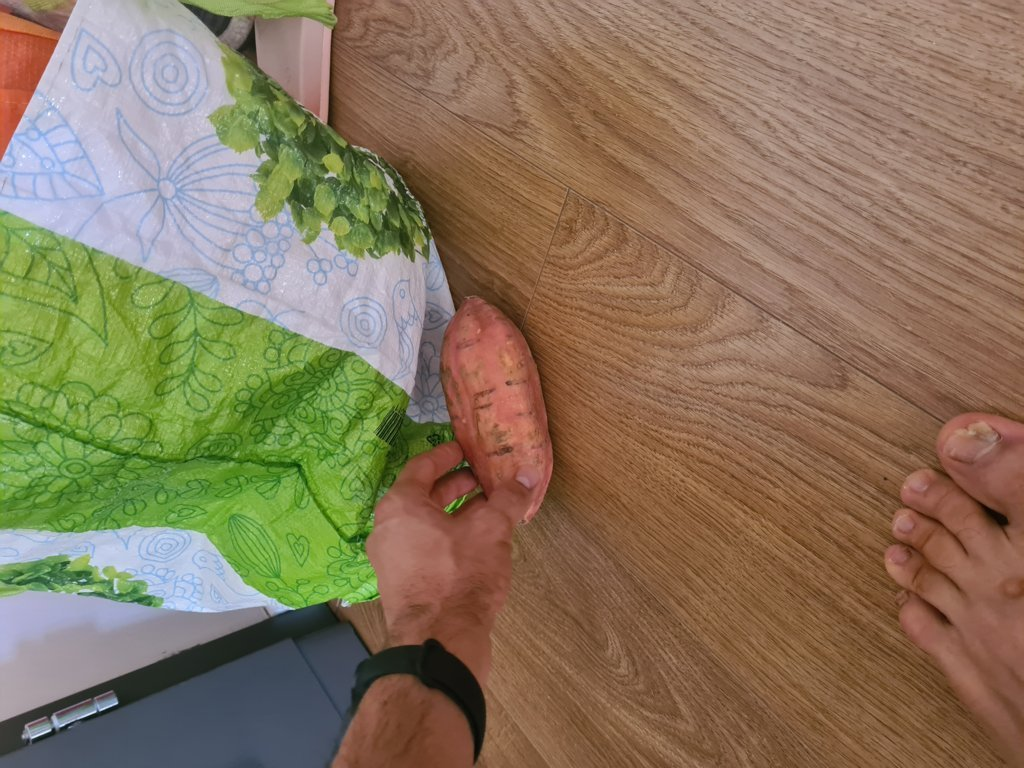Sweet Potatow: (439, 290, 553, 521)
